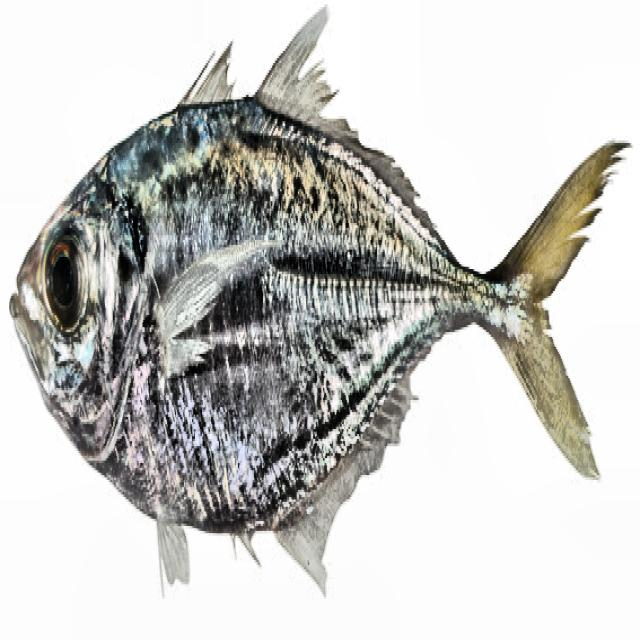fish: (9, 5, 618, 609)
